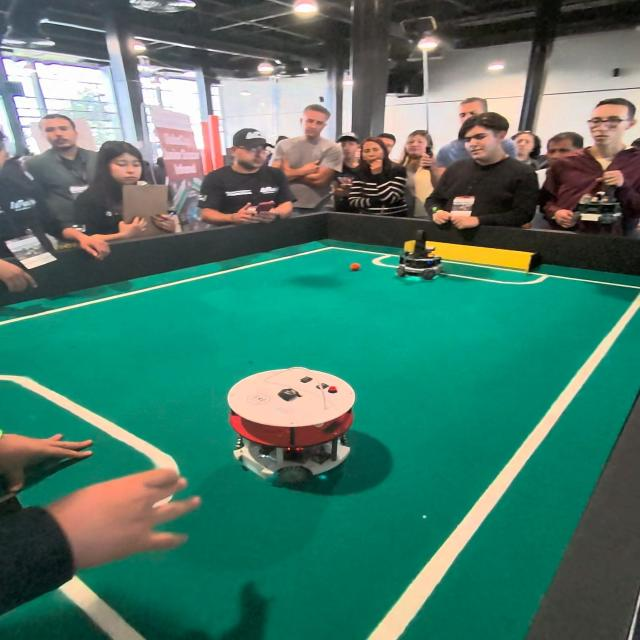Robot: (222, 354, 370, 500), (396, 232, 446, 286)
pelota: (350, 263, 361, 272)
